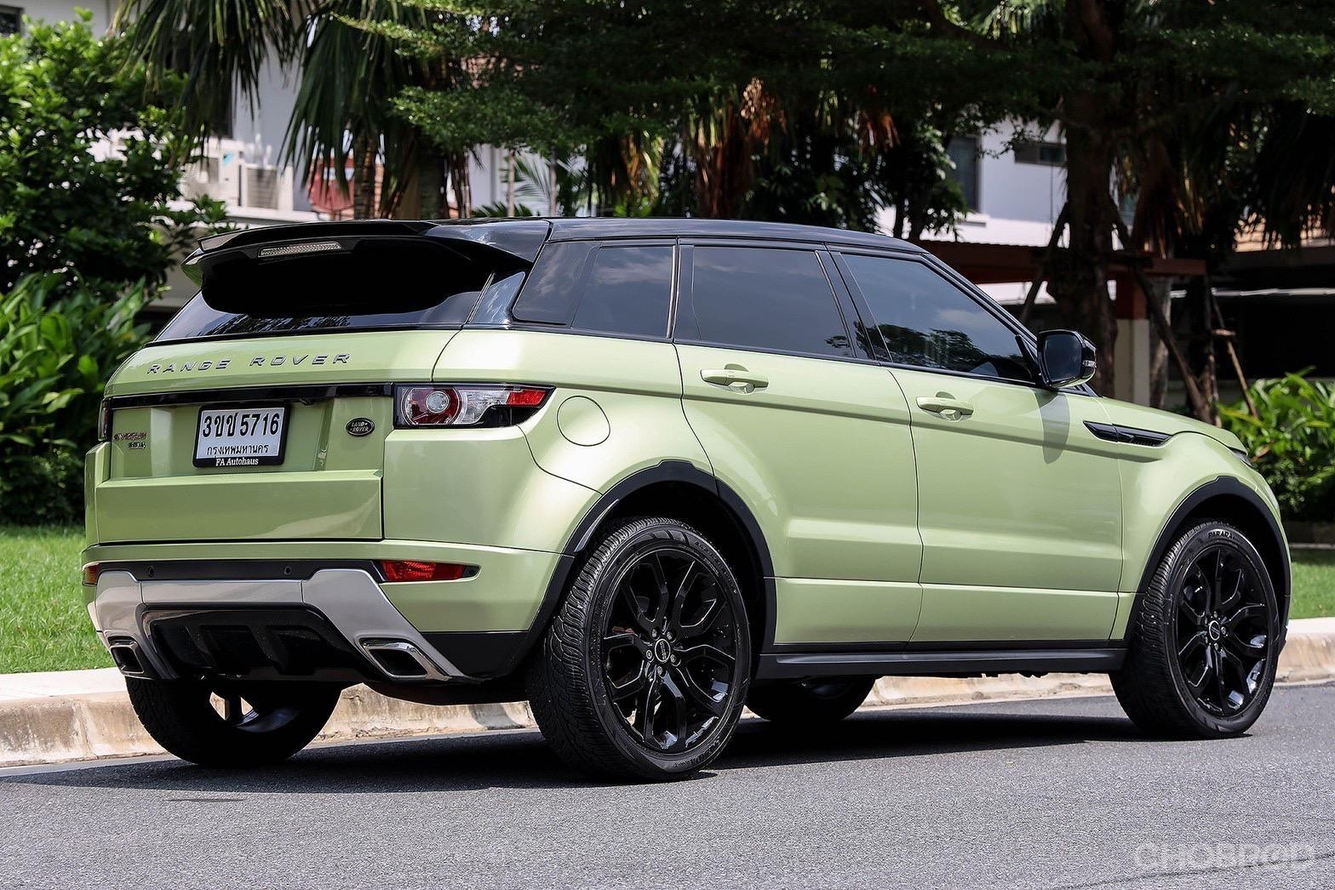license-plate: (189, 397, 292, 472)
